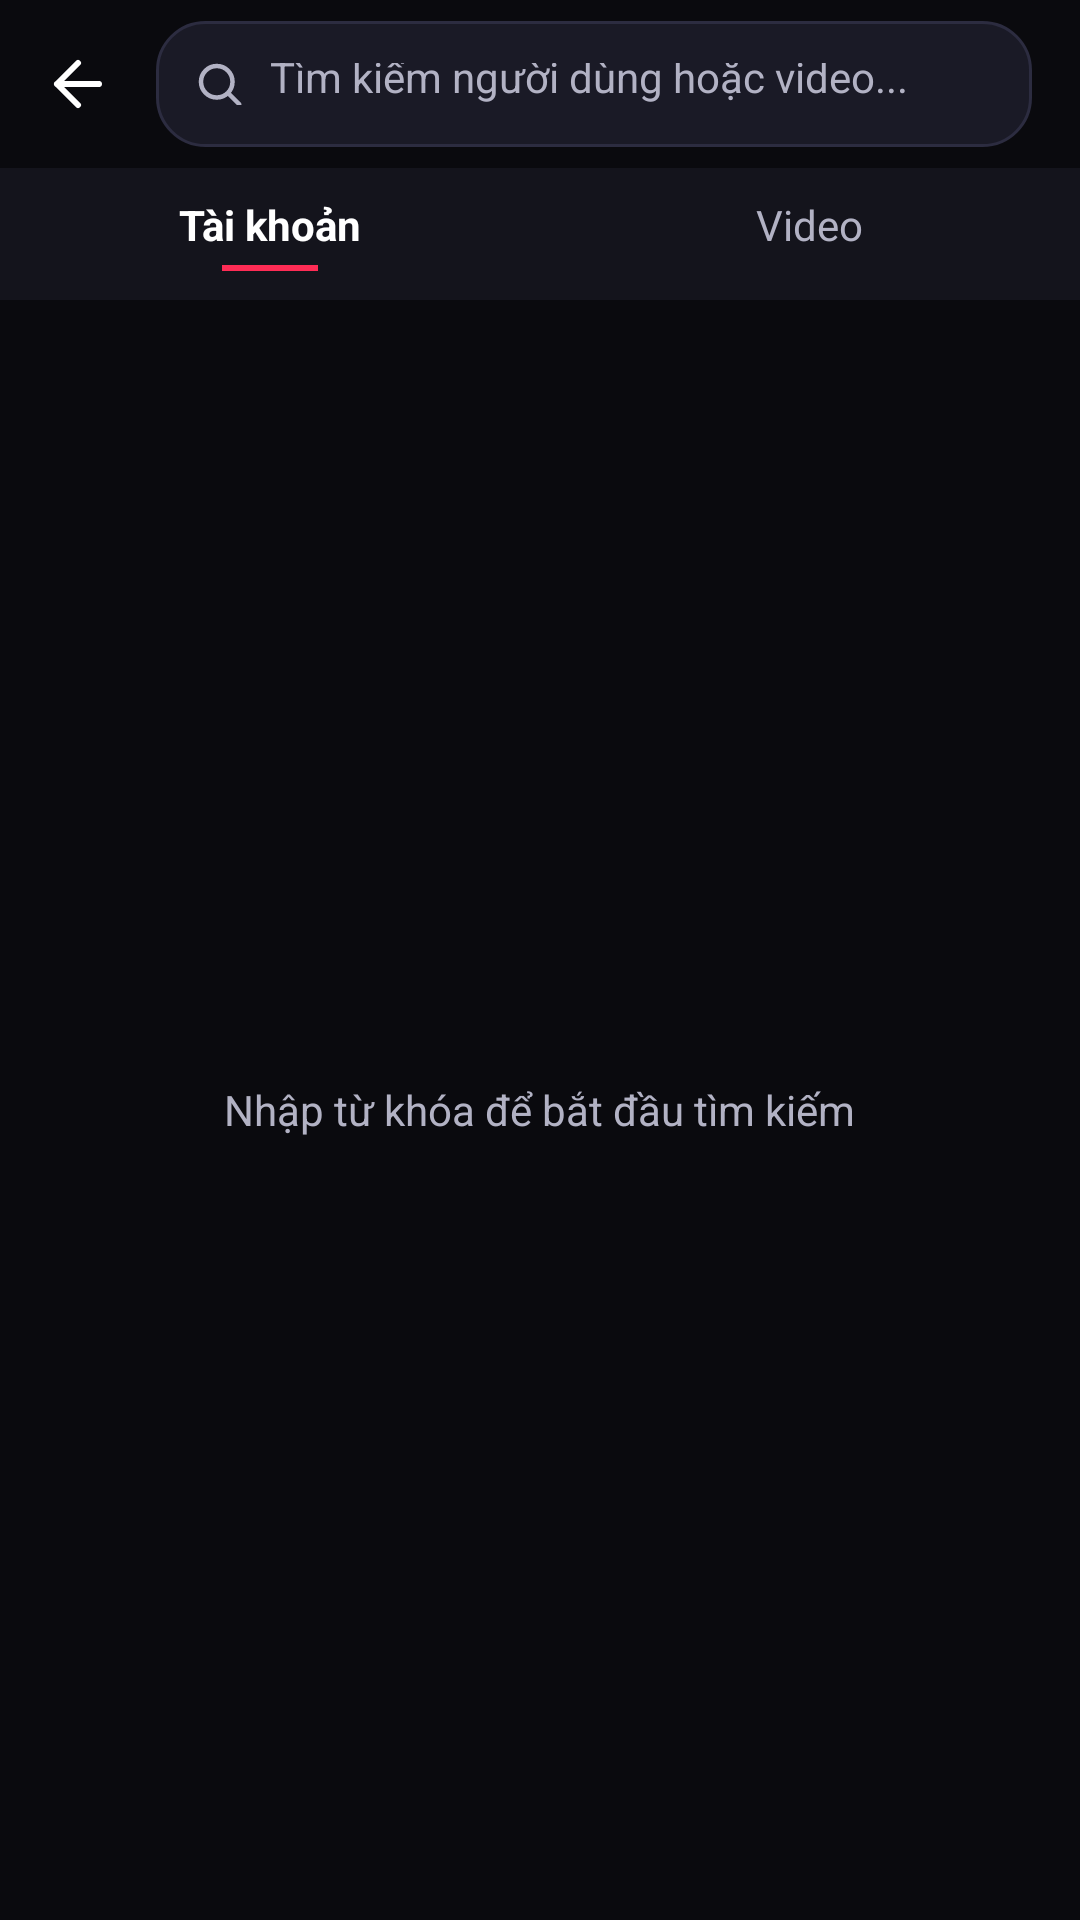

Where to tap for icons on this 1080 x 1920 app screen, as [x,y]:
arrow back: [78,84]
search: [220,84]
